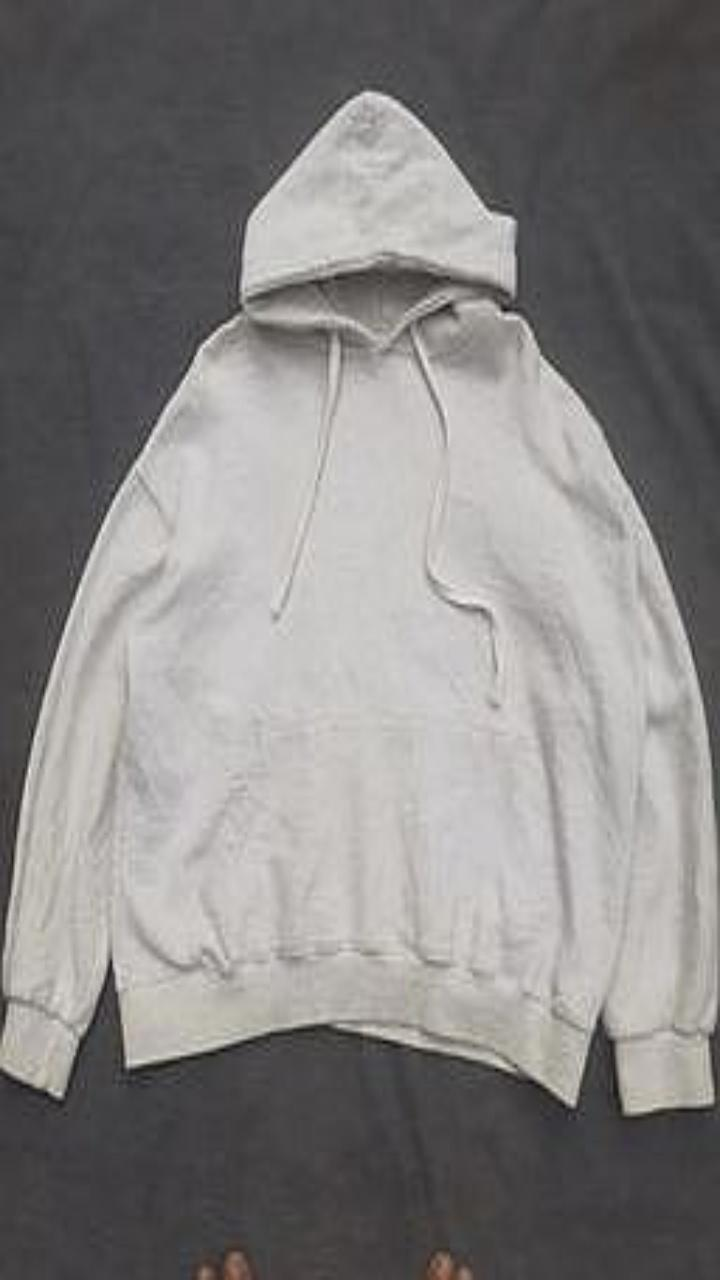Hoodie: (0, 92, 717, 1113)
